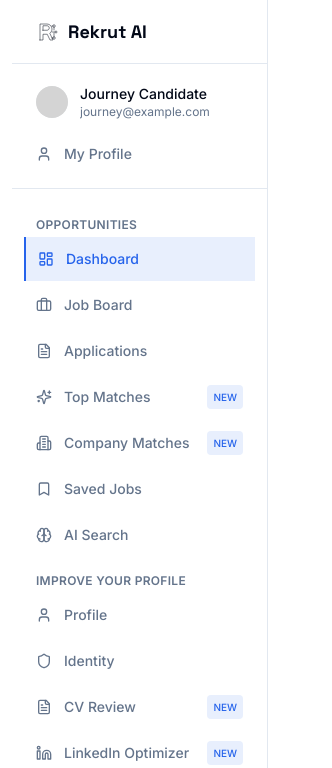
it: #1636 sidebar My Profile (JT-M1, mobile navigation) › candidate: tapping the identity block also lands on the Profile page
// Accessible name carries WHOSE profile (independent review, #1636).
Click the link with aria-label "Go to my profile, Journey Candidate" at (123, 102), box x1=36 y1=85 x2=210 y2=119
(page scrolled)
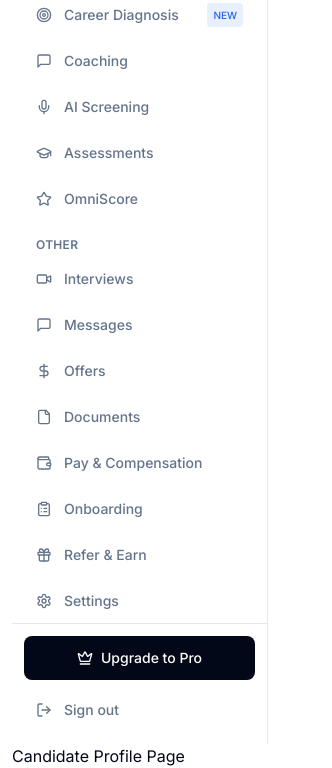
Expected: the text "Candidate Profile Page" is shown, x1=12 y1=746 x2=185 y2=766
